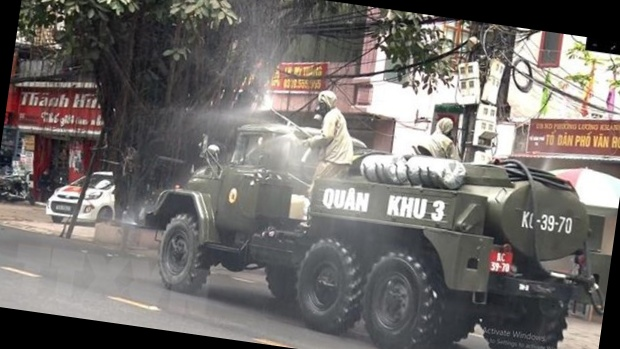plate: (486, 248, 512, 275), (52, 203, 73, 212)
